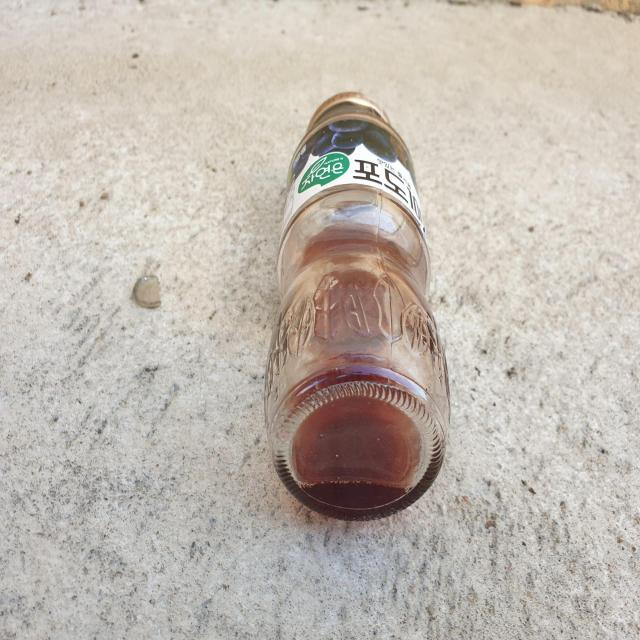glass: (265, 92, 450, 520)
